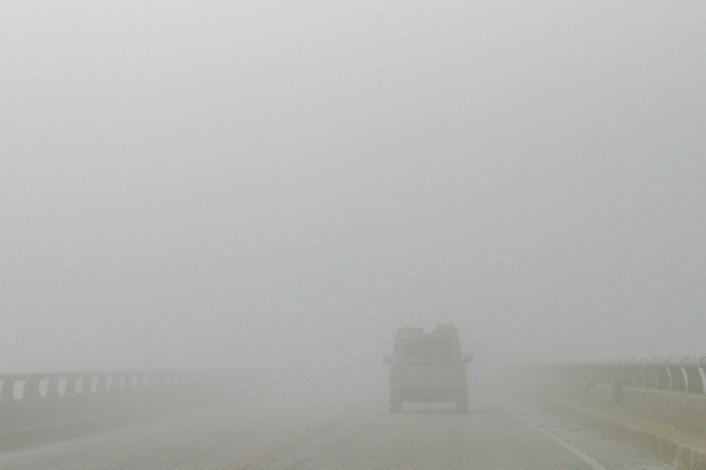car: (379, 321, 473, 415)
